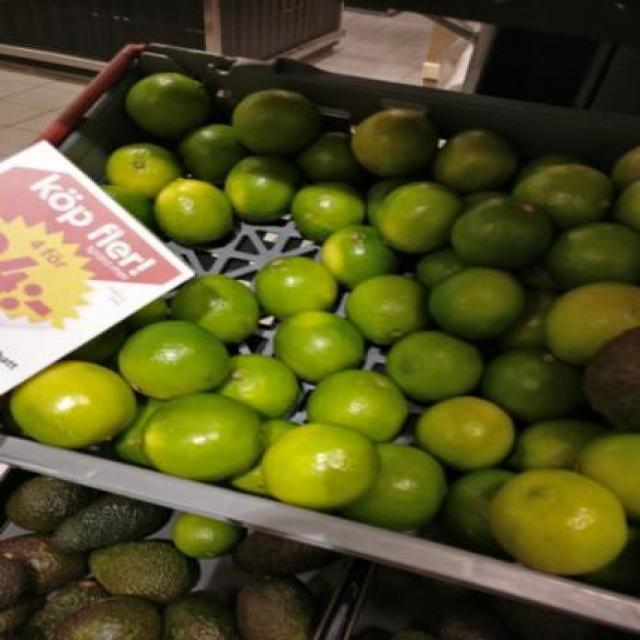Avocado: (86, 539, 200, 599), (3, 465, 108, 527), (243, 574, 322, 638), (60, 598, 164, 638)
